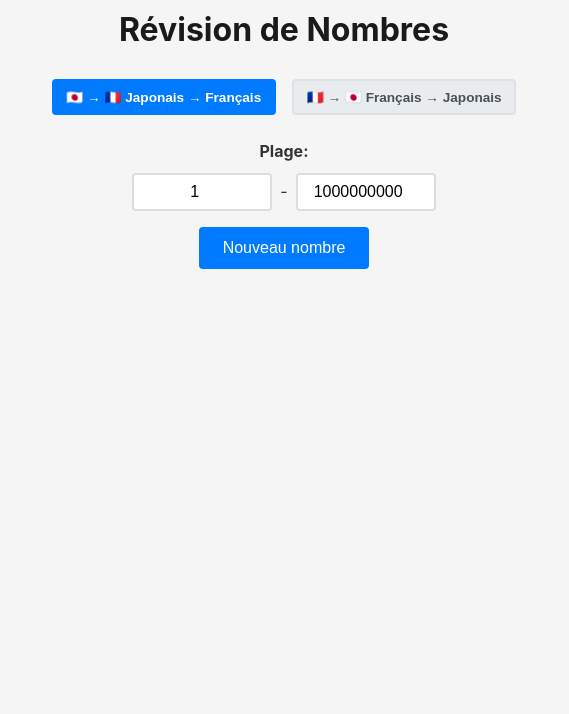
Test: NumberRevisionPage › fr-to-jp mode shows correct feedback when answering in hiragana correctly
Click the button "🇫🇷 → 🇯🇵 Français → Japonais". click: (404, 97)
box: [292,79,516,115]
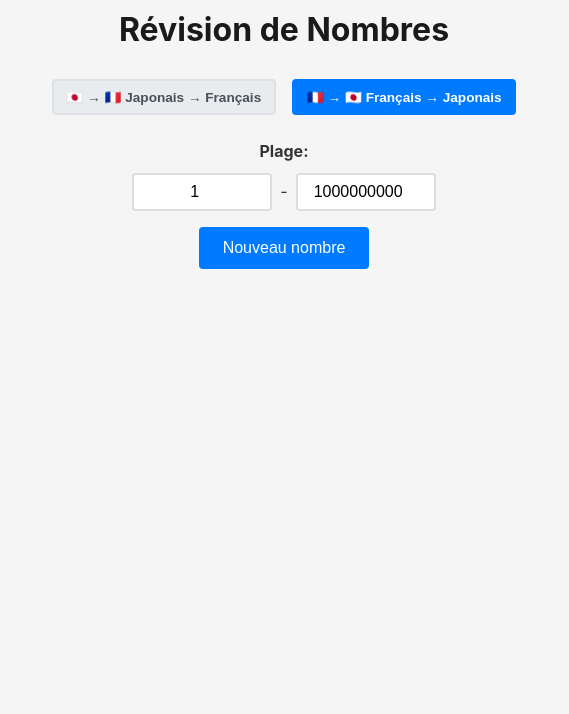
Click the button "Nouveau nombre". click: (284, 248)
box: [199,227,369,269]
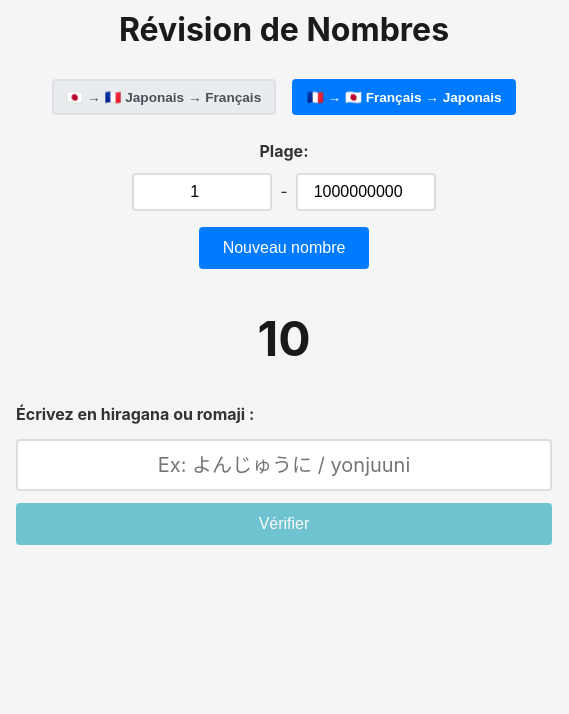
Now the text "10" is shown, box [258,309,311,368]
Type "じゅう" into the field labelled "Écrivez en hiragana ou romaji :". click: (284, 465)
box: [16,439,552,491]
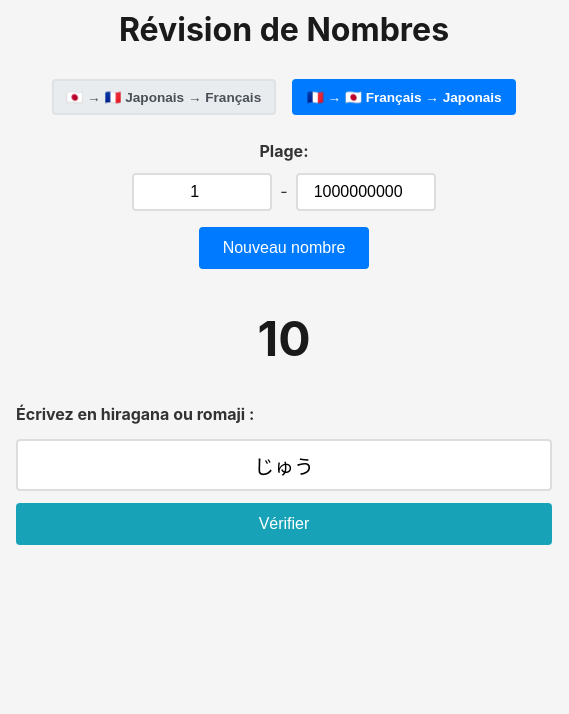
Click the button "Vérifier". click: (284, 524)
box: [16,503,552,545]
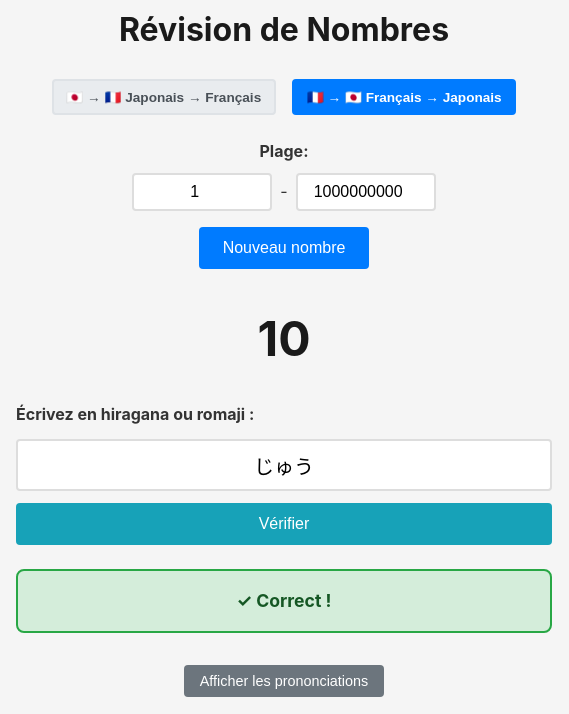
Now the text "✓ Correct !" is shown, box [16,569,552,633]
